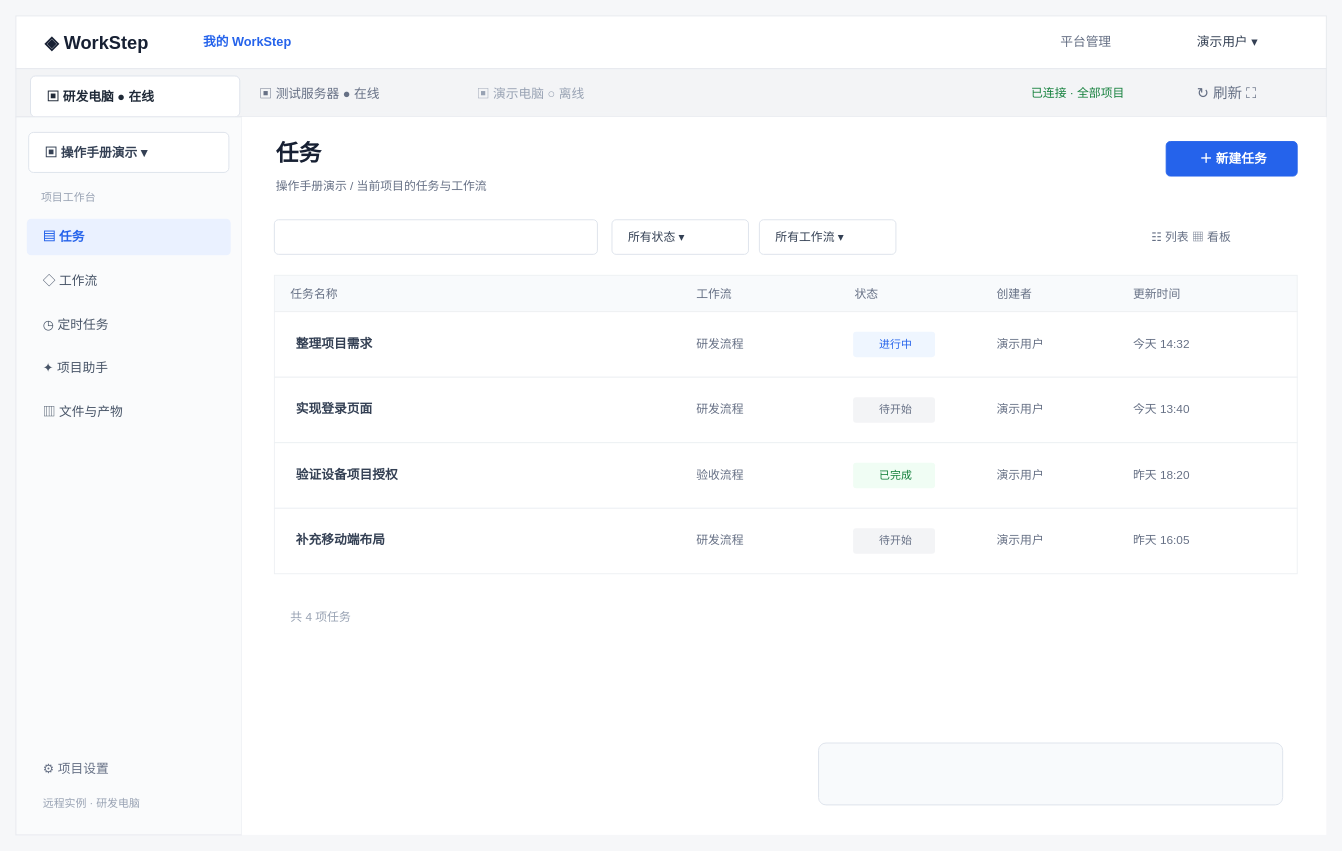
This 1342x851 diagram has some shape labels left out. The centre of each missing label's shape, as x and y in pixels:
"↻ 网关暂时断开，正在自动重连… 恢复后自动返回当前设备和项目，无需刷新" belongs at point (1050, 773).
"⌕ 搜索任务…" belongs at point (435, 236).
